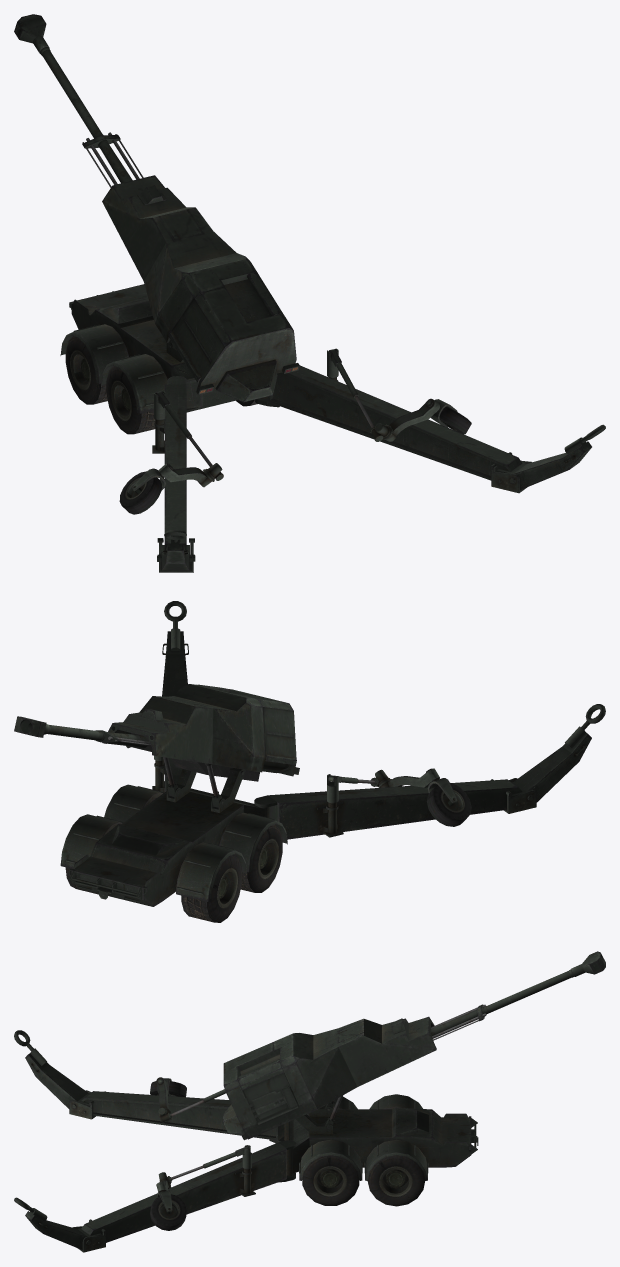
The model's file is artillery_fh-77b.obj.
The picture shows the model from 3 angles, top to bottom: view 1: azimuth 30°, elevation 25°; view 2: azimuth 150°, elevation 25°; view 3: azimuth 270°, elevation 25°; orthographic projection. The views are drawn at different scales.
Parts seen in each view (by area): view 1: M_Artillery_01; view 2: M_Artillery_01; view 3: M_Artillery_01.
Boxes of the visible parts, x1,y1,x2,y2 form: M_Artillery_01: (14,14,605,572); M_Artillery_01: (14,601,605,922); M_Artillery_01: (14,951,605,1252).
Size of the model in its own units: 345 by 208 by 498.
